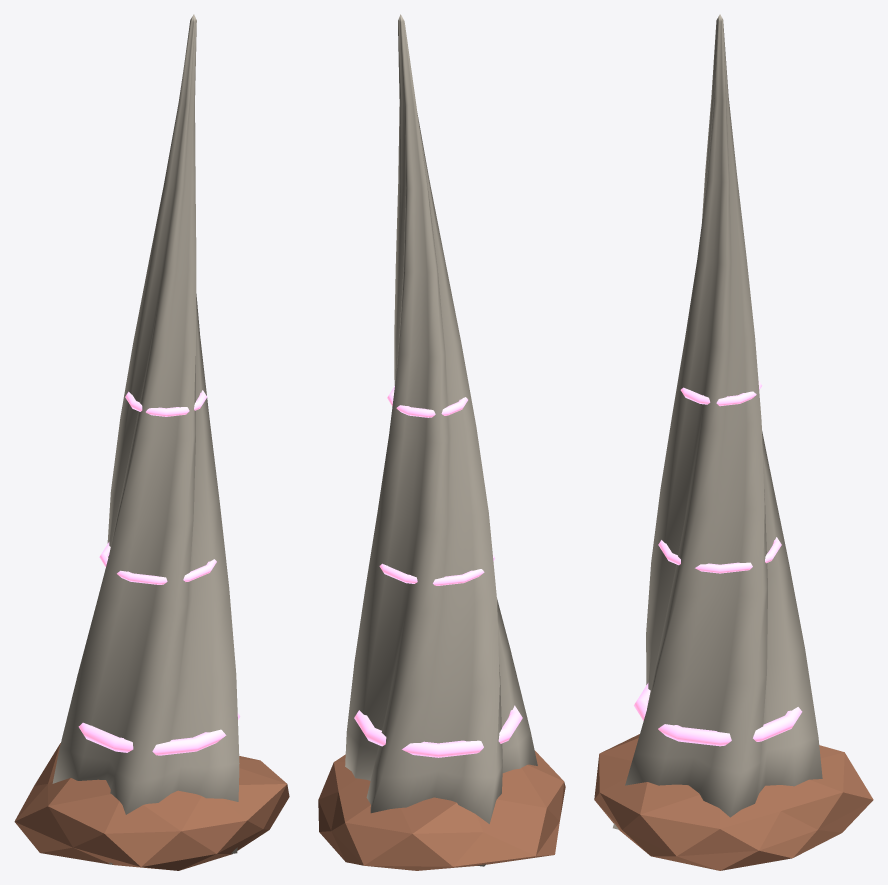
File: mars_spire.glb
3 renders of one model, left to right at view 1: azimuth 30°, elevation 25°; view 2: azimuth 150°, elevation 25°; view 3: azimuth 270°, elevation 25°, orthographic. The views are drawn at different scales.
Visible parts, largest first — view 1: Spire; view 2: Spire; view 3: Spire.
Boxes of the visible parts, x1,y1,x2,y2 form: Spire: (14,14,289,870); Spire: (318,14,565,870); Spire: (594,14,873,870).
Size of what is drawn, in the model's own units: 1.84 by 6.07 by 1.87.
